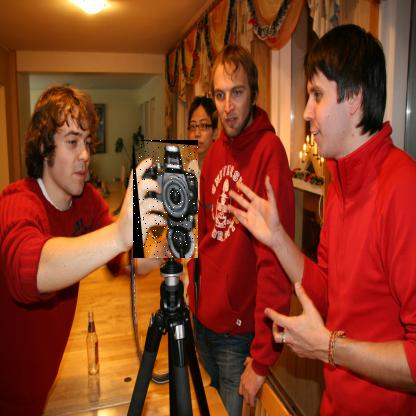Camera: (134, 141, 200, 260)
